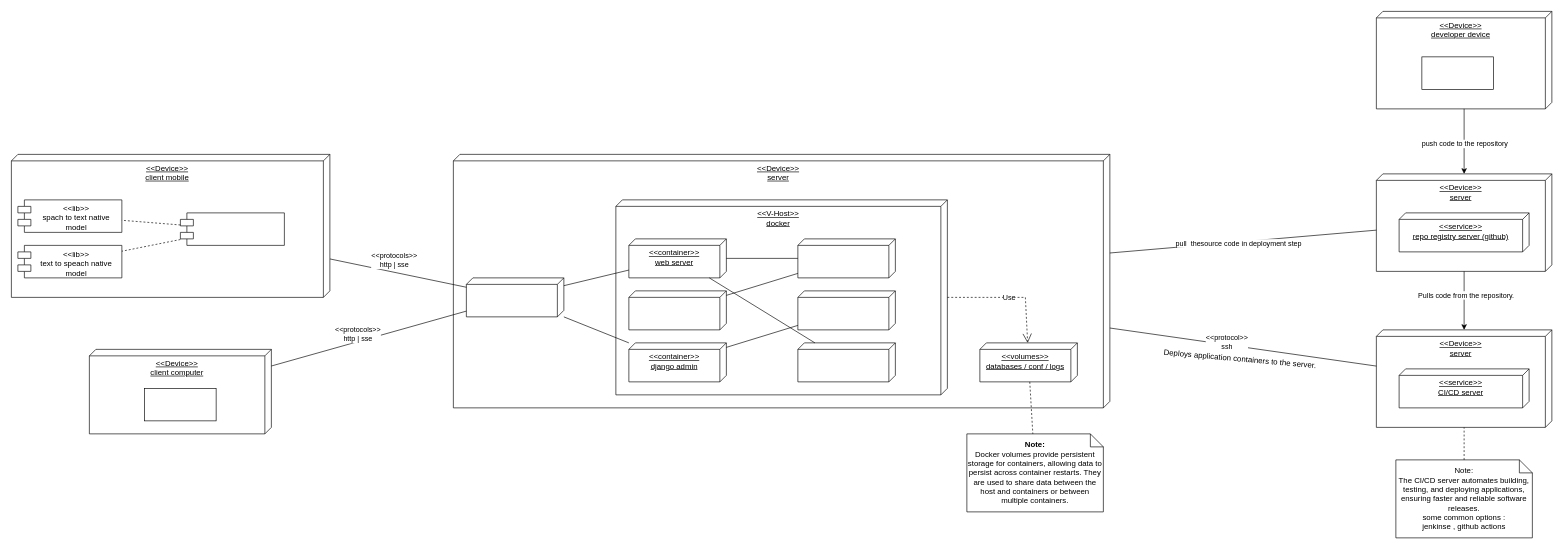
Image size: 1563x549. Some labels were removed from this diagram. Here are the shapes that lost their labels. From the top down, the centre of each, then its label:
the point at 1457,72: «repository» source code
the point at 232,228: <<executable>> moile app
the point at 846,258: <<container>> ollama server
the point at 515,297: <<reverse proxy>> NGINX
the point at 677,310: <<container>> vector db
the point at 846,310: <<container>> relational db
the point at 846,362: <<container>> cache db
the point at 180,404: «ienviroment» browser
